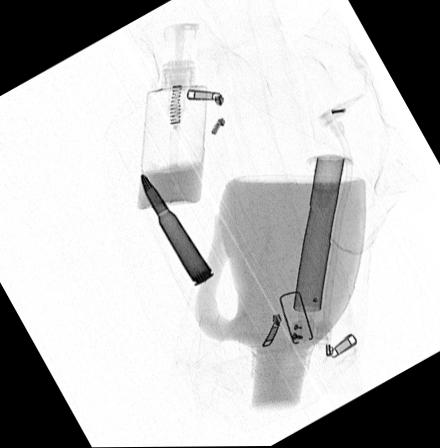Bullet: (140, 171, 215, 286)
